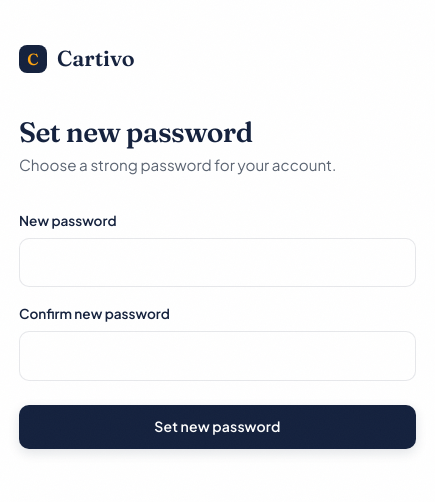
Test case: ResetPasswordPage › shows generic error when fetch fails
Type "StrongPass1" into the password field labelled "New password". click: (217, 262)
box: [19,238,416,287]
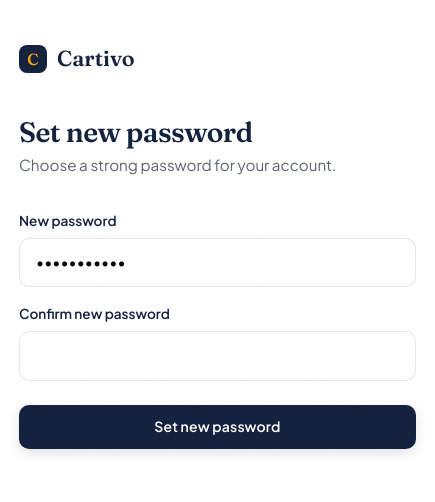
Type "StrongPass1" into the password field labelled "Confirm new password". click: (217, 356)
box: [19,331,416,380]
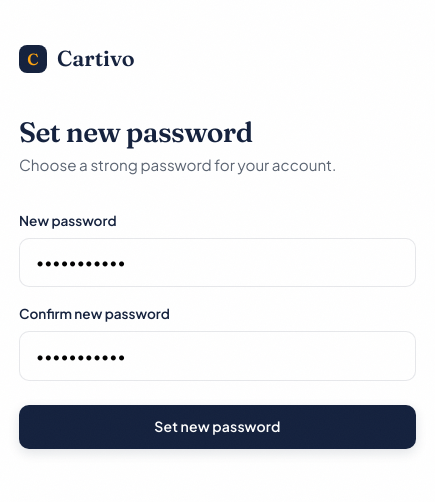
Click the button "Set new password". click: (217, 427)
box: [19,404,416,449]
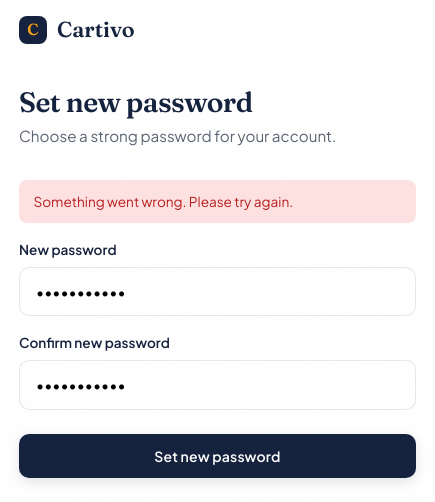
Now the text "Something went wrong. Please try again." is shown, box [19,180,416,223]
